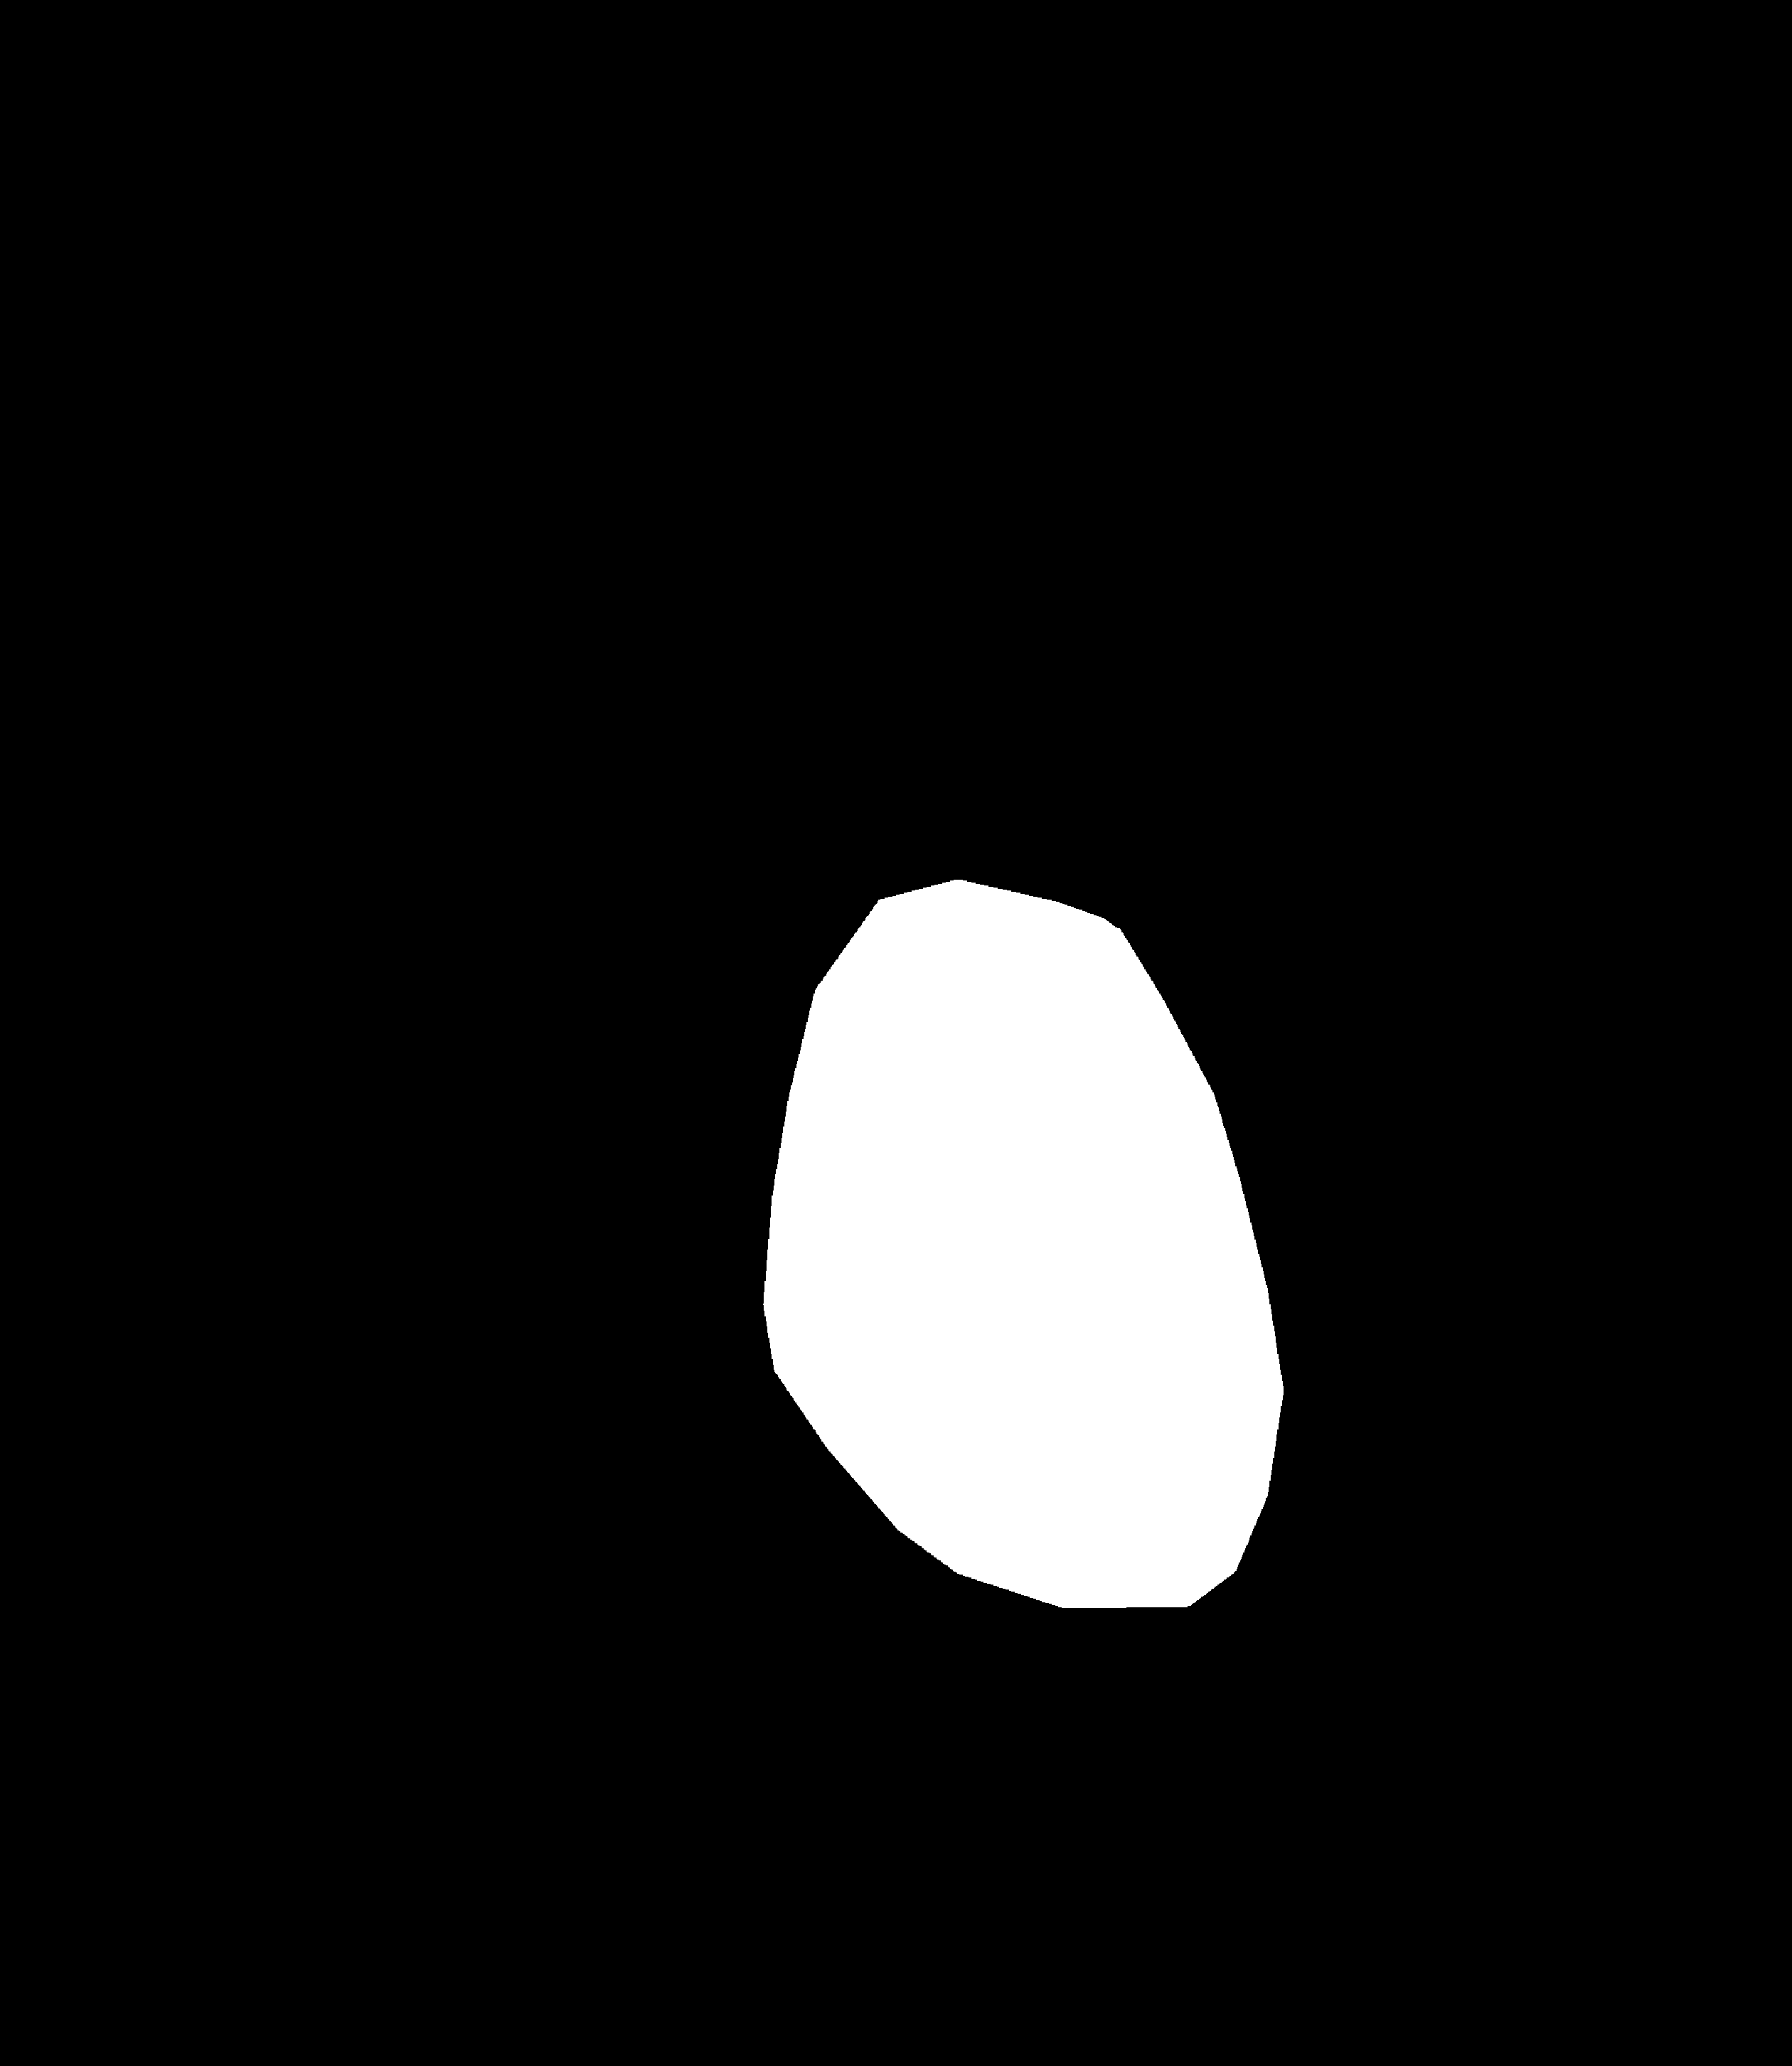heart: (631, 905, 1279, 1664)
left_lung: (167, 228, 843, 1764)
right_lung: (1028, 256, 1604, 1873)
